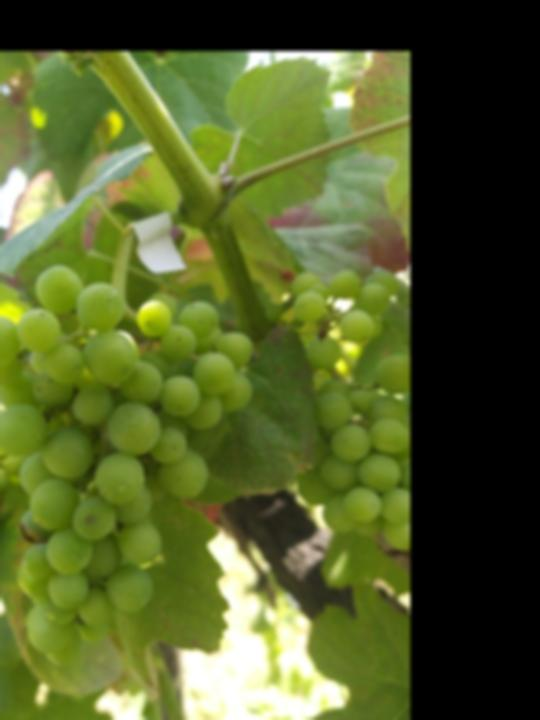grape: (0, 260, 253, 666), (0, 405, 21, 673)
